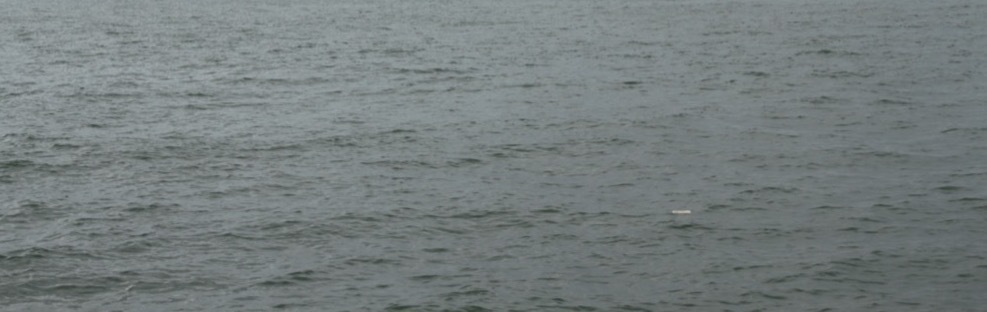plastic: (667, 204, 695, 219)
